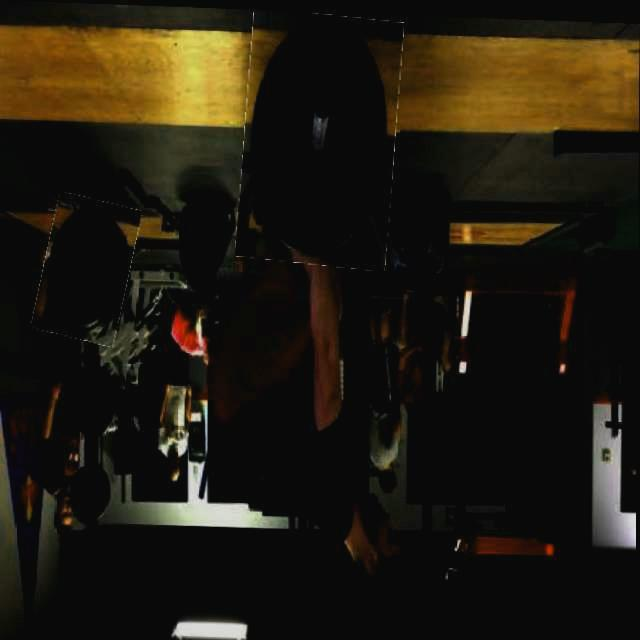barbell: (241, 8, 400, 267), (39, 193, 138, 344)
